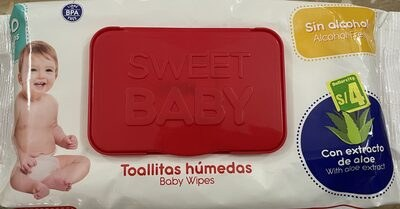Baby wipes: (20, 10, 380, 199)
